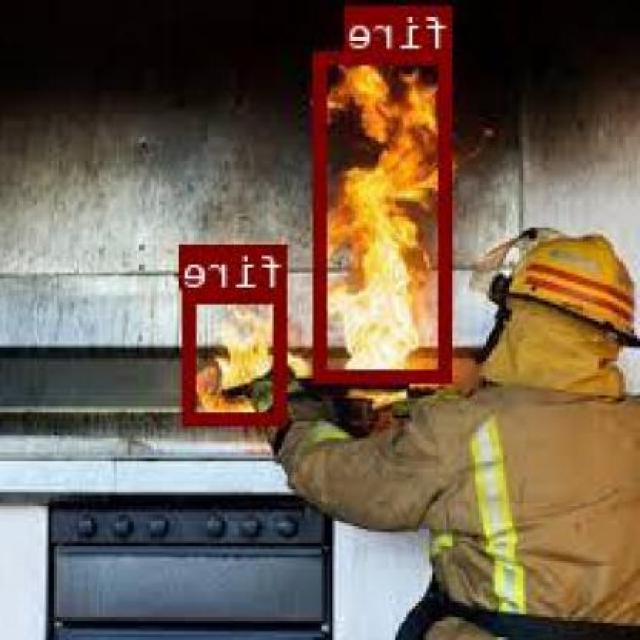Fire: (316, 49, 452, 378), (186, 290, 288, 422)
